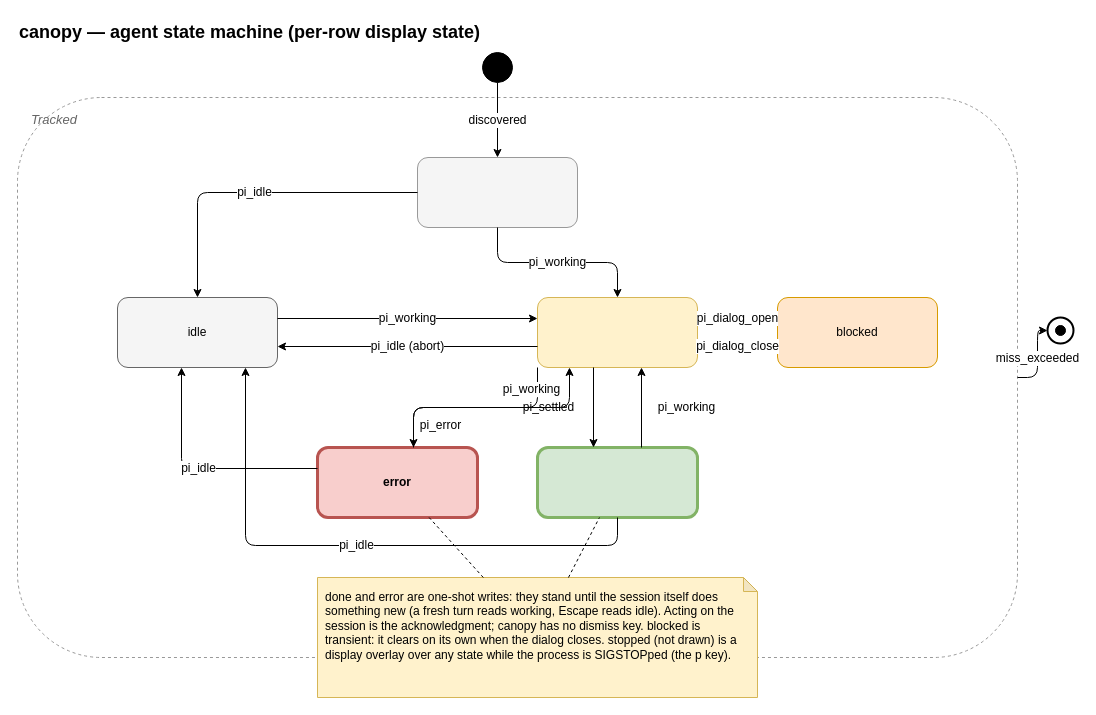
The diagram is 1096 pixels wide and 715 high, and some of its shapes have lost their labels. Here are the shapes that lost their labels. From the top down, the centre of each, then its label:
At point (497, 192): "unknown".
At point (617, 332): "working".
At point (617, 482): "done".
